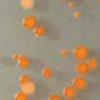orange: (17, 80, 38, 96), (73, 44, 90, 62), (20, 15, 38, 30), (15, 54, 31, 70), (74, 61, 90, 76), (71, 77, 88, 90), (62, 85, 77, 98), (34, 24, 48, 37), (18, 0, 36, 10), (18, 74, 32, 86), (89, 57, 100, 71), (12, 92, 30, 100), (41, 67, 52, 80), (58, 47, 69, 59), (45, 93, 63, 100), (65, 0, 77, 10), (73, 9, 82, 22), (10, 51, 19, 61), (33, 28, 39, 34)
